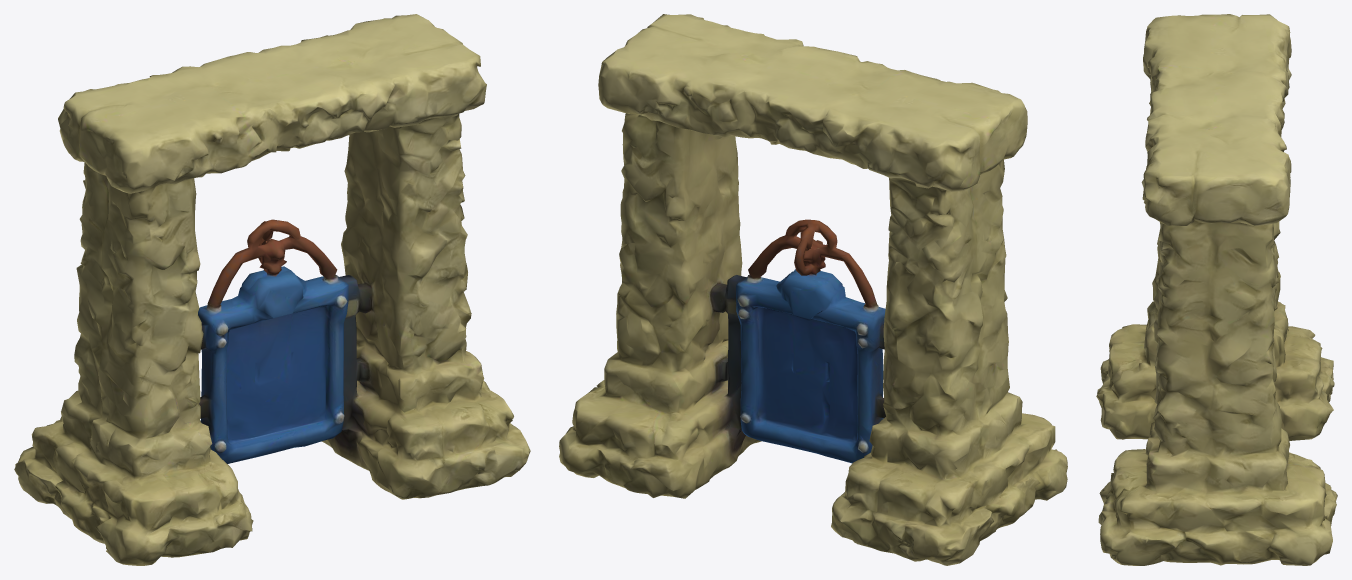
File: sluice-gate.glb
3 views of the same model, side by side, from view 1: azimuth 30°, elevation 25°; view 2: azimuth 150°, elevation 25°; view 3: azimuth 270°, elevation 25° (orthographic). The views are drawn at different scales.
Parts seen in each view (by area): view 1: tripo_node_d776595d-93c0-43c1-831f-4a4118626650; view 2: tripo_node_d776595d-93c0-43c1-831f-4a4118626650; view 3: tripo_node_d776595d-93c0-43c1-831f-4a4118626650.
Boxes of the visible parts, x1,y1,x2,y2 form: tripo_node_d776595d-93c0-43c1-831f-4a4118626650: (14, 14, 530, 565); tripo_node_d776595d-93c0-43c1-831f-4a4118626650: (559, 14, 1067, 565); tripo_node_d776595d-93c0-43c1-831f-4a4118626650: (1096, 14, 1337, 565).
Size of the model in its own units: 1 by 0.9457 by 0.5392.
Materials: 1 (1 with a texture image).
